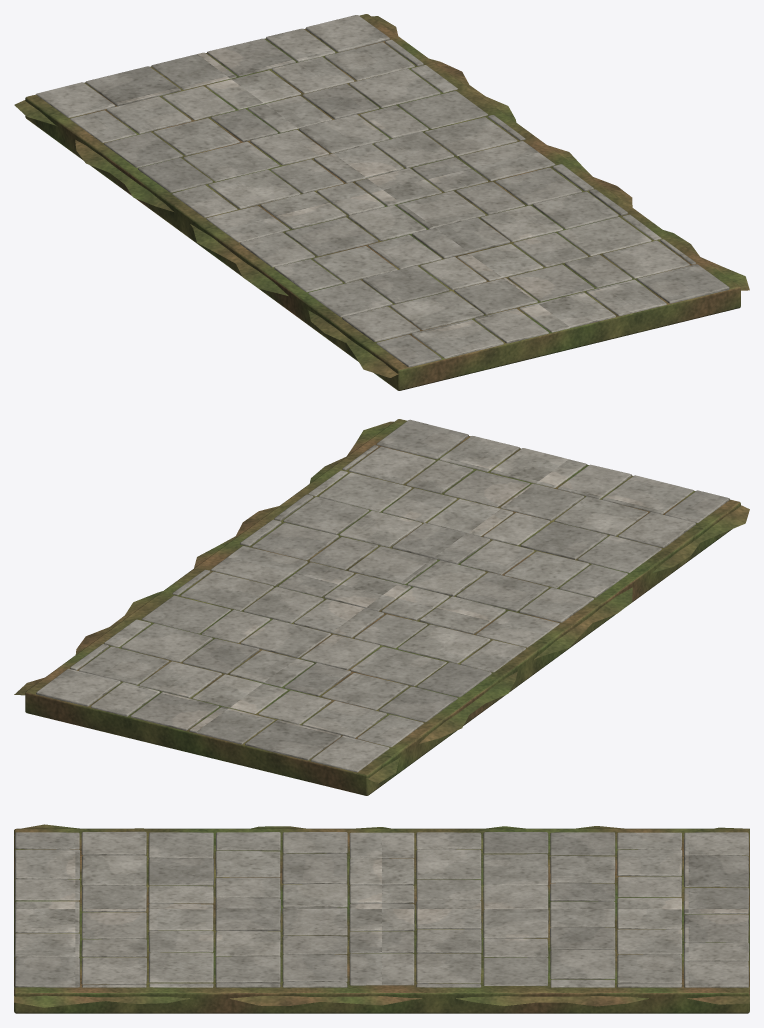
Rendered from stone_path_platform.glb.
3 renders of one model, top to bottom at view 1: azimuth 30°, elevation 25°; view 2: azimuth 150°, elevation 25°; view 3: azimuth 270°, elevation 25°, orthographic.
Parts seen in each view (by area): view 1: Buried earthen roadbed, Closely fitted hand dressed flagstone.008, Closely fitted hand dressed flagstone.001, Closely fitted hand dressed flagstone.003, Closely fitted hand dressed flagstone, Closely fitted hand dressed flagstone.006, Closely fitted hand dressed flagstone.046; view 2: Buried earthen roadbed, Closely fitted hand dressed flagstone.008, Closely fitted hand dressed flagstone.001, Closely fitted hand dressed flagstone.003, Closely fitted hand dressed flagstone, Closely fitted hand dressed flagstone.006, Closely fitted hand dressed flagstone.046; view 3: Buried earthen roadbed, Closely fitted hand dressed flagstone.008, Closely fitted hand dressed flagstone.001, Closely fitted hand dressed flagstone.003, Closely fitted hand dressed flagstone, Closely fitted hand dressed flagstone.006, Closely fitted hand dressed flagstone.046.
Boxes of the visible parts, <box> form: Buried earthen roadbed: <box>14,14,749,390</box>; Closely fitted hand dressed flagstone.008: <box>36,15,593,314</box>; Closely fitted hand dressed flagstone.001: <box>70,28,695,358</box>; Closely fitted hand dressed flagstone.003: <box>206,65,661,332</box>; Closely fitted hand dressed flagstone: <box>151,52,729,367</box>; Closely fitted hand dressed flagstone.006: <box>324,39,632,341</box>; Closely fitted hand dressed flagstone.046: <box>85,38,525,192</box>; Buried earthen roadbed: <box>14,419,749,795</box>; Closely fitted hand dressed flagstone.008: <box>36,483,627,772</box>; Closely fitted hand dressed flagstone.001: <box>91,436,694,747</box>; Closely fitted hand dressed flagstone.003: <box>104,448,647,713</box>; Closely fitted hand dressed flagstone: <box>189,419,729,744</box>; Closely fitted hand dressed flagstone.006: <box>70,460,695,684</box>; Closely fitted hand dressed flagstone.046: <box>130,569,491,760</box>; Buried earthen roadbed: <box>14,824,749,1013</box>; Closely fitted hand dressed flagstone.008: <box>82,832,748,987</box>; Closely fitted hand dressed flagstone.001: <box>14,832,749,987</box>; Closely fitted hand dressed flagstone.003: <box>15,849,681,987</box>; Closely fitted hand dressed flagstone: <box>14,832,749,987</box>; Closely fitted hand dressed flagstone.006: <box>81,831,682,987</box>; Closely fitted hand dressed flagstone.046: <box>416,832,748,987</box>.
Size of the model in its own units: 4.72 by 0.2826 by 8.
Materials: 7 (7 with a texture image).
